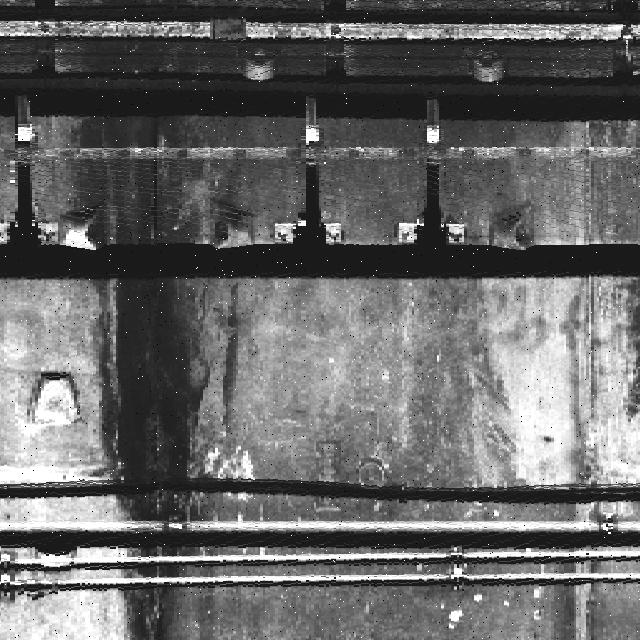leakage: (79, 115, 205, 639)
